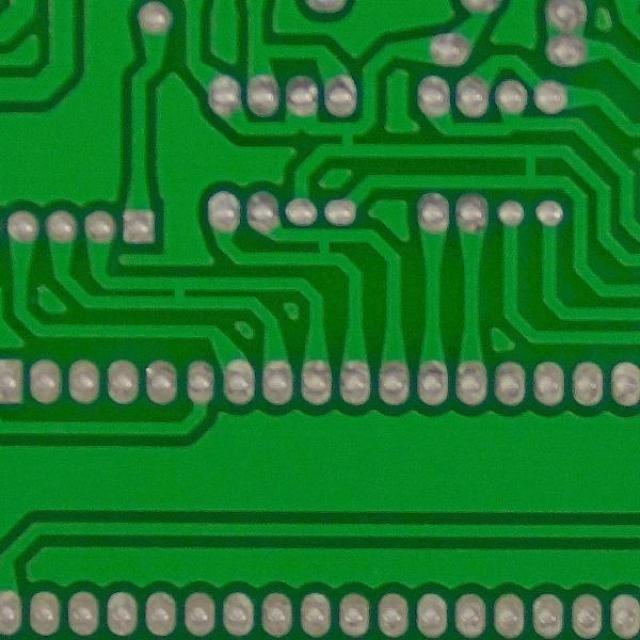short: (294, 224, 352, 267), (320, 112, 368, 161), (512, 142, 557, 192), (161, 277, 198, 314)
